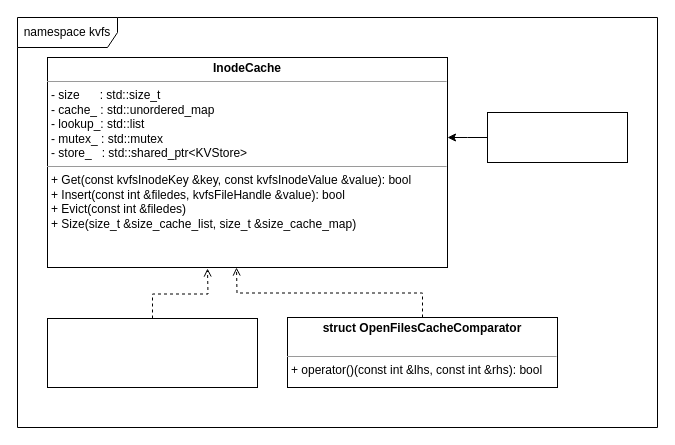
The diagram is 675 pixels wide and 445 high, and some of its shapes have lost their labels. The shapes that lost their labels are listed below. From the top down, each one's centre as x and y in pixels, then its label:
At pixel 557 137: "KVStore".
At pixel 152 353: "struct OpenFilesCacheHash + operator()(const int &x): std::size_t".
